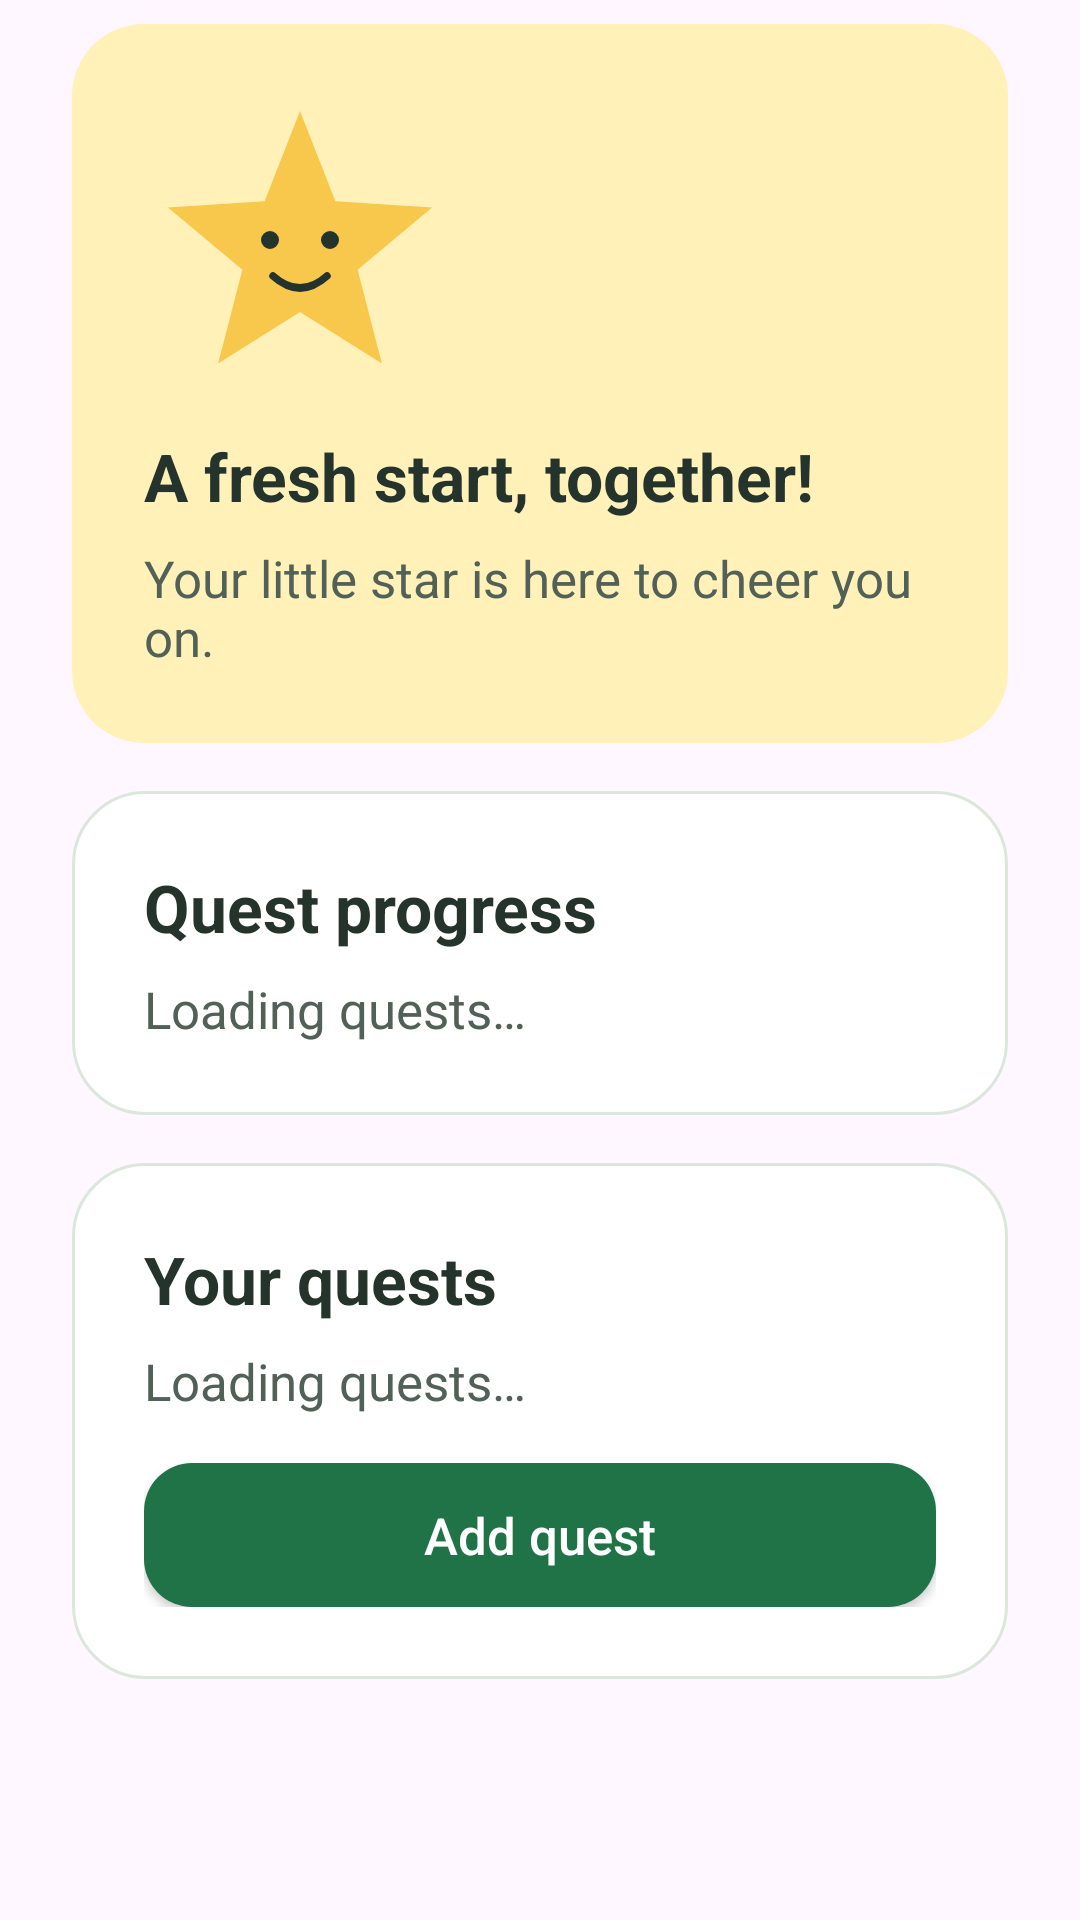

Locate icon controls on the screen. Image size 1080px x 1920px, boxes as detection(x1, y1, x2, y2).
Smiling yellow star mascot: detection(168, 112, 432, 363)
